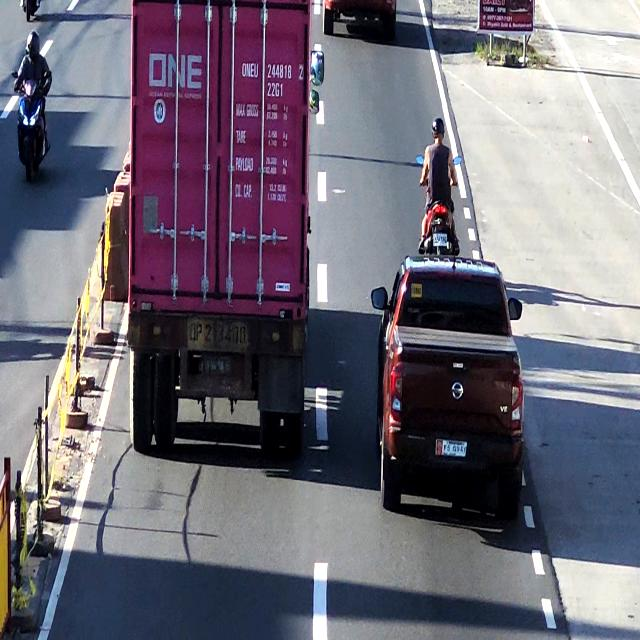Car: (376, 256, 526, 514), (320, 0, 399, 41)
License-Plate: (186, 315, 250, 355), (434, 438, 470, 462), (432, 234, 450, 248)
Motorcycle: (415, 116, 464, 253)
Truck: (125, 0, 316, 469)
